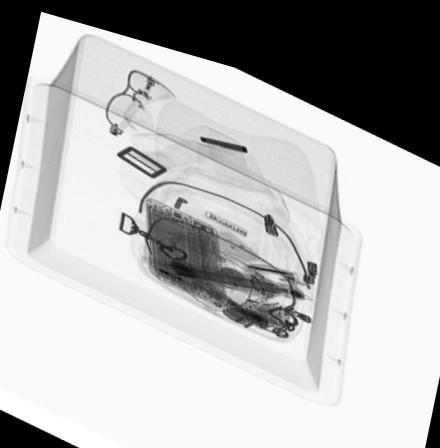Lighter: (127, 65, 157, 105)
